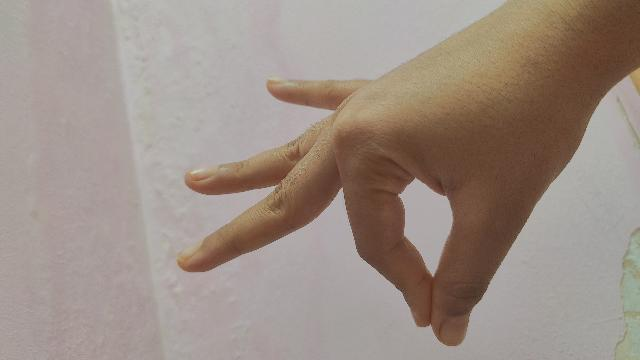hansaasya: (175, 0, 640, 348)
